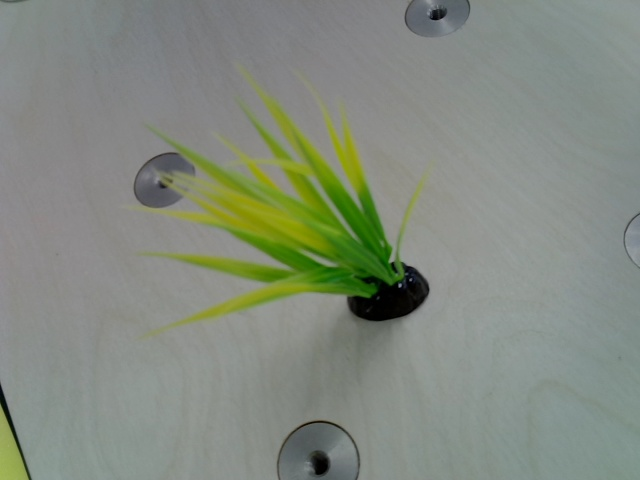해바라기새싹: (160, 71, 432, 325)
